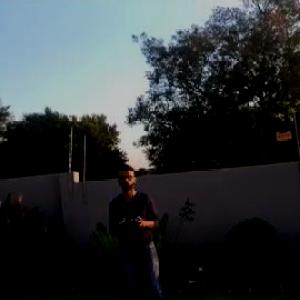follow: (106, 157, 182, 299)
